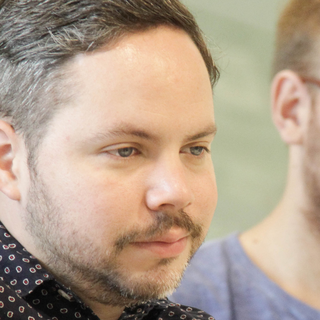eye: (96, 136, 145, 162), (174, 138, 211, 161)
